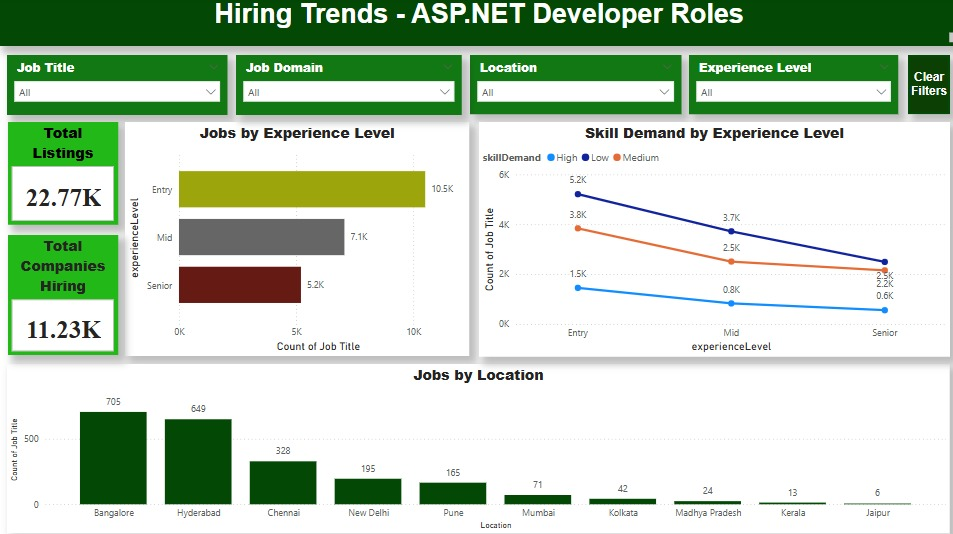

The page's visual inventory and layout, read from the dashboard file:
{"tool":"powerbi","page":{"name":"Hiring Trends","canvas":[1280,720],"ordinal":2},"visuals":[{"type":"textbox","title":"Hiring Trends - ASP.NET Developer Roles","box":[0,0,1280,63.8],"z":0},{"type":"slicer","fields":{"Values":["ASP NET.Location"]},"box":[628.2,76.3,281.5,79],"z":1000},{"type":"slicer","fields":{"Values":["ASP NET.experienceLevel"]},"box":[920.6,75.8,279.1,78.9],"z":2000},{"type":"slicer","fields":{"Values":["ASP NET.Job Title"]},"box":[10.6,75.8,294.2,80.4],"z":3000},{"type":"cardVisual","title":"Total Listings","fields":{"Data":["CountNonNull(ASP NET.Job Title)"]},"box":[11.6,165.1,146.5,137.2],"z":4000},{"type":"barChart","title":"Jobs by Experience Level","fields":{"Category":["ASP NET.experienceLevel"],"Y":["CountNonNull(ASP NET.Job Title)"]},"box":[168.6,165.1,459.3,311.6],"z":5000},{"type":"clusteredColumnChart","title":"Jobs by Location","fields":{"Category":["ASP NET.Location"],"Y":["CountNonNull(ASP NET.Job Title)"]},"box":[11.3,488.1,1257.4,226.3],"z":6000},{"type":"slicer","fields":{"Values":["ASP NET.Job Roles"]},"box":[316.2,76.3,300.9,80.4],"z":7000},{"type":"actionButton","box":[1211.8,75.8,56.1,78.9],"z":8000},{"type":"cardVisual","title":"Total Companies Hiring","fields":{"Data":["Count(ASP NET.Company Name)"]},"box":[11.6,316.3,146.5,160.5],"z":9000},{"type":"lineChart","title":"Skill Demand by Experience Level","fields":{"Category":["ASP NET.experienceLevel"],"Series":["ASP NET.skillDemand"],"Y":["CountNonNull(ASP NET.Job Title)"]},"box":[639.5,165.1,627.9,312.8],"z":10000}]}

Visuals, with their boxes in screenshot pixels (x1, y1, x2, y2), scaled from the page's 1280x720 canvas onto the 953x534 screenshot:
"Hiring Trends - ASP.NET Developer Roles" textbox: x1=0, y1=0, x2=952, y2=47
slicer - ASP NET.Location: x1=468, y1=57, x2=677, y2=115
slicer - ASP NET.experienceLevel: x1=685, y1=56, x2=893, y2=115
slicer - ASP NET.Job Title: x1=8, y1=56, x2=227, y2=116
"Total Listings" cardVisual: x1=9, y1=122, x2=118, y2=224
"Jobs by Experience Level" barChart: x1=126, y1=122, x2=467, y2=354
"Jobs by Location" clusteredColumnChart: x1=8, y1=362, x2=945, y2=530
slicer - ASP NET.Job Roles: x1=235, y1=57, x2=459, y2=116
actionButton: x1=902, y1=56, x2=944, y2=115
"Total Companies Hiring" cardVisual: x1=9, y1=235, x2=118, y2=354
"Skill Demand by Experience Level" lineChart: x1=476, y1=122, x2=944, y2=354
